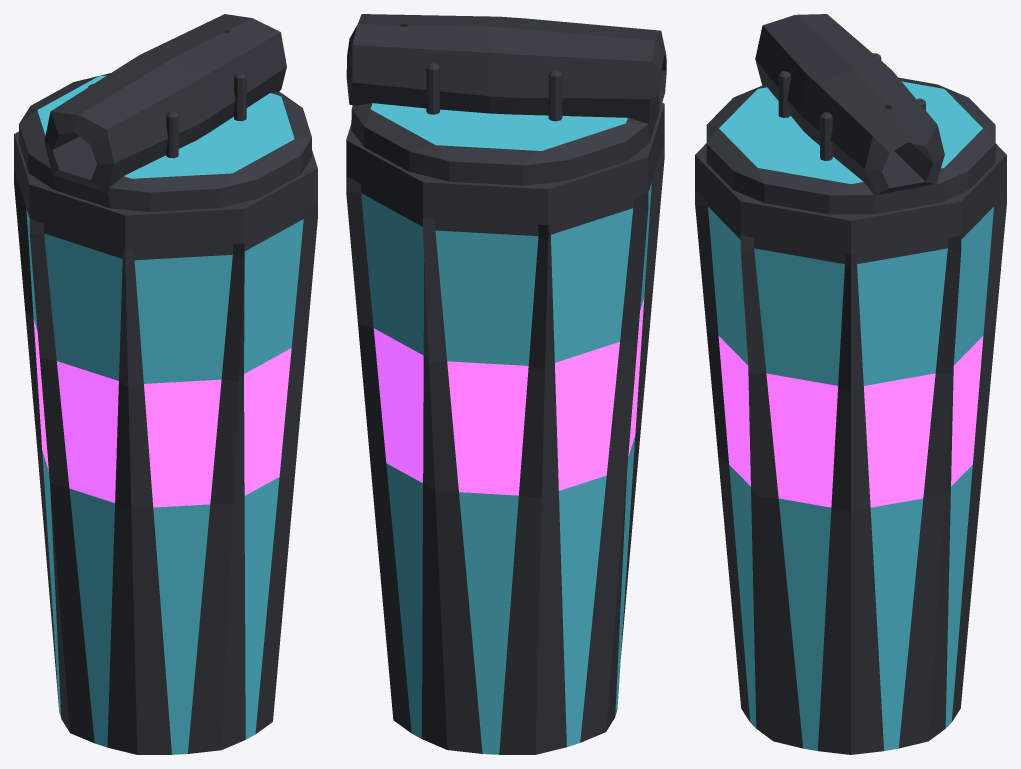
The model's file is filter 1.fbx.
3 views of the same model, side by side, from view 1: azimuth 30°, elevation 25°; view 2: azimuth 150°, elevation 25°; view 3: azimuth 270°, elevation 25° (orthographic). The views are drawn at different scales.
Visible parts, largest first — view 1: Cylinder; view 2: Cylinder; view 3: Cylinder.
Boxes of the visible parts, x1,y1,x2,y2 form: Cylinder: (14, 14, 317, 754); Cylinder: (346, 14, 666, 754); Cylinder: (695, 14, 1006, 754).
Bounding box in the file's own units: 145 × 331 × 145.
